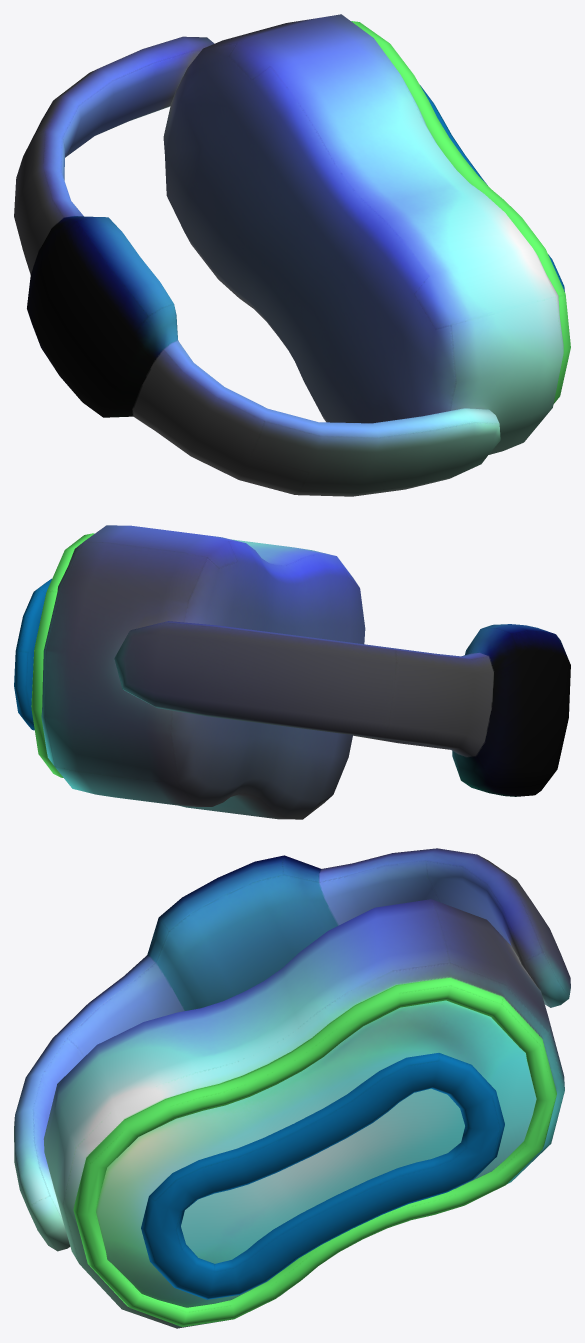
Rendered from Cate_Project_Model.glb.
3 renders of one model, top to bottom at view 1: azimuth 30°, elevation 25°; view 2: azimuth 150°, elevation 25°; view 3: azimuth 270°, elevation 25°, orthographic. The views are drawn at different scales.
Parts seen in each view (by area): view 1: Cate_Project_Model; view 2: Cate_Project_Model; view 3: Cate_Project_Model.
Part boxes in pixels (x1=…): Cate_Project_Model: x1=14, y1=14, x2=570, y2=496; Cate_Project_Model: x1=14, y1=525, x2=570, y2=819; Cate_Project_Model: x1=14, y1=848, x2=570, y2=1328.
Size of the model in its own units: 0.8919 by 0.6612 by 0.9114.
1 material, 1 textured.
